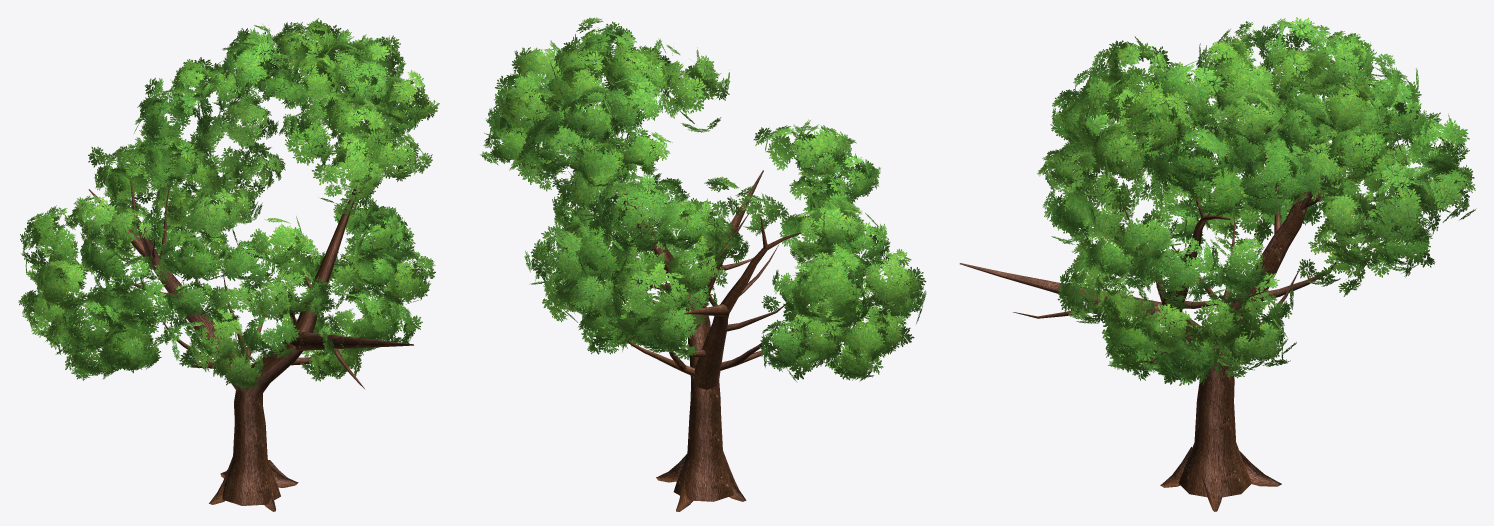
File: mm7_deco_tree69.glb
3 views of the same model, side by side, from view 1: azimuth 30°, elevation 25°; view 2: azimuth 150°, elevation 25°; view 3: azimuth 270°, elevation 25° (orthographic). The views are drawn at different scales.
Visible parts, largest first — view 1: Tree; view 2: Tree; view 3: Tree.
Boxes of the visible parts, <box> form: Tree: <box>18,18,439,511</box>; Tree: <box>480,17,926,511</box>; Tree: <box>959,17,1476,511</box>.
Size of the model in its own units: 8.06 by 8.2 by 7.83.
2 materials, 2 textured.
